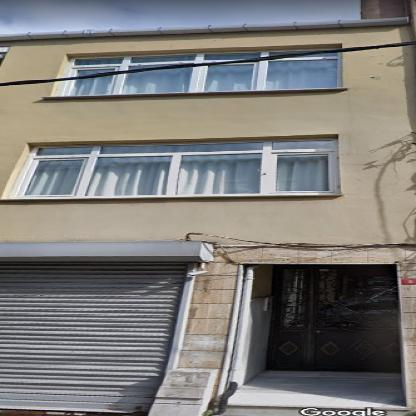door: (272, 266, 399, 371)
window: (17, 140, 335, 197), (65, 53, 336, 95), (61, 49, 328, 78)
